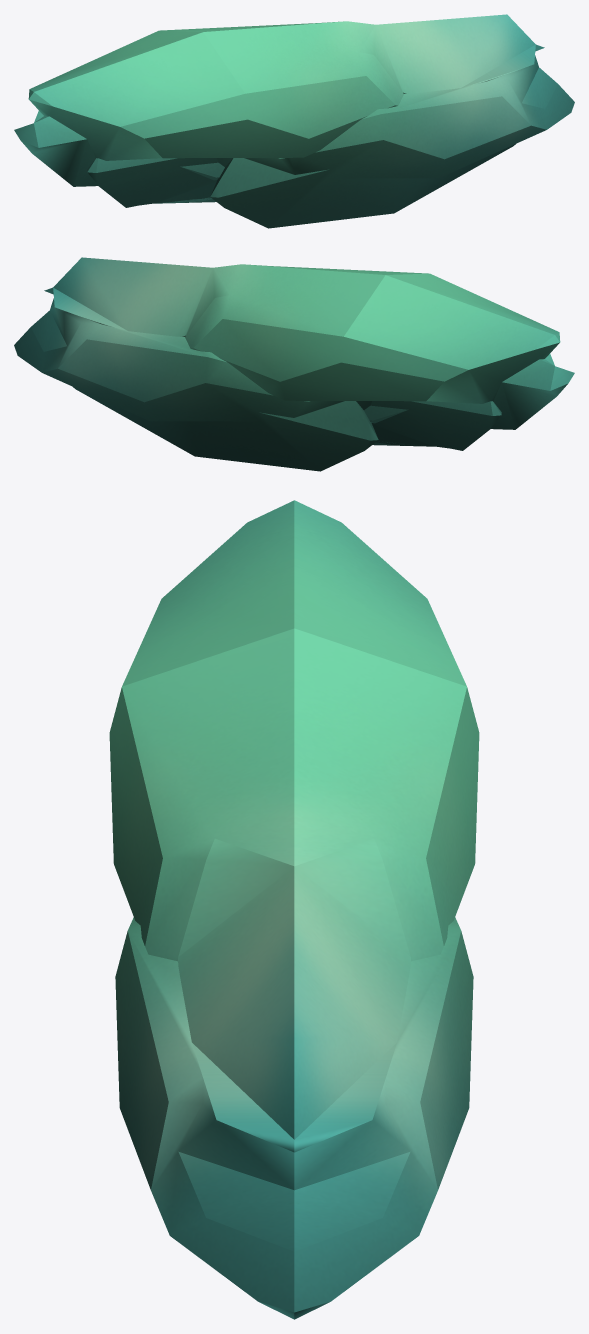
File: BgMD_Rock_01_04.fbx
3 renders of one model, top to bottom at view 1: azimuth 30°, elevation 25°; view 2: azimuth 150°, elevation 25°; view 3: azimuth 270°, elevation 25°, orthographic. The views are drawn at different scales.
Parts seen in each view (by area): view 1: BgMD_Rock01_01:polySurface98; view 2: BgMD_Rock01_01:polySurface98; view 3: BgMD_Rock01_01:polySurface98.
Boxes of the visible parts, x1,y1,x2,y2 form: BgMD_Rock01_01:polySurface98: (14, 14, 574, 228); BgMD_Rock01_01:polySurface98: (14, 257, 574, 471); BgMD_Rock01_01:polySurface98: (109, 500, 479, 1319).
Size of the model in its own units: 209 by 75.62 by 60.4.
